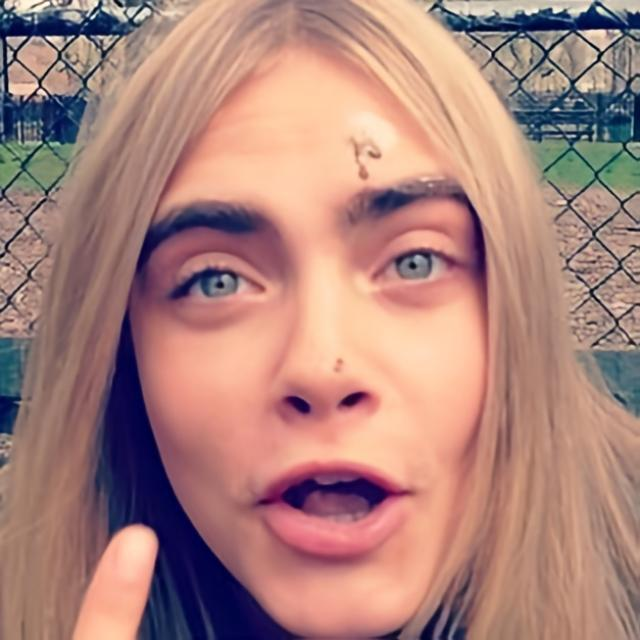surprise: (127, 11, 490, 638)
